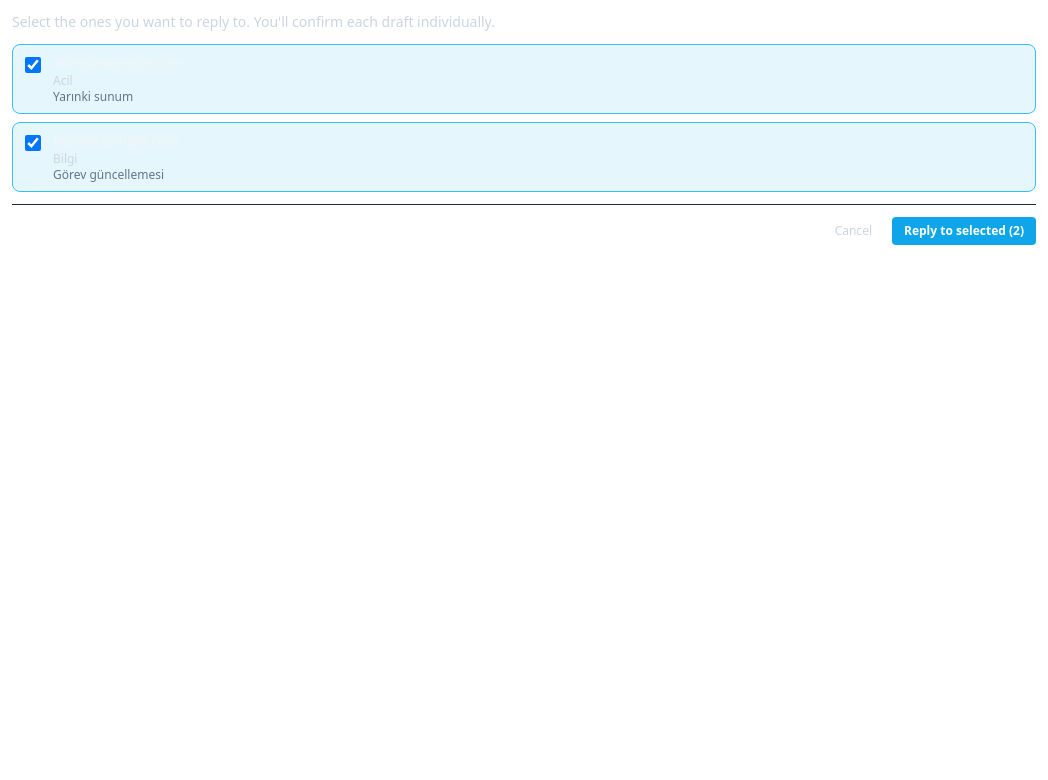
Test case: BatchReplyView › requests drafts for selected ids and shows review step
This screenshot has width=1048, height=780.
What coordinates should you click on to do the following:
click the button with test id "reply-continue"
I would click on:
 (964, 231)
Its box is [892,217,1036,245].
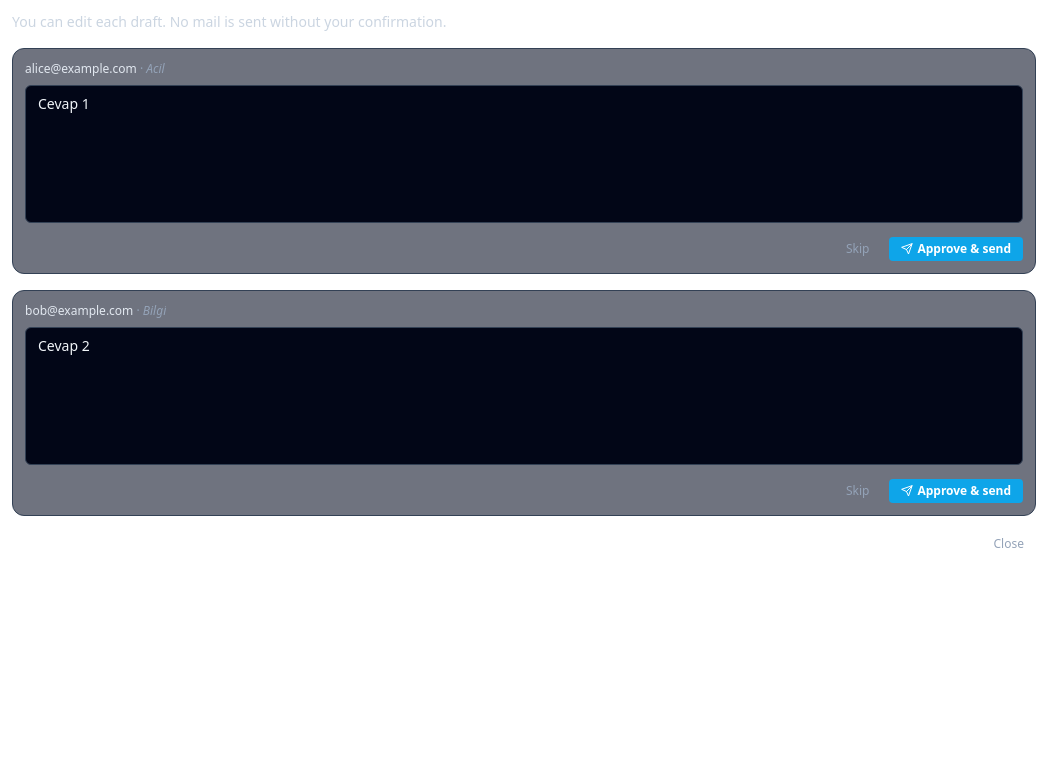
Expected: the element with test id "reply-draft-m1" is shown, [12,48,1036,274]
Expected: the element with test id "reply-draft-m2" is shown, [12,290,1036,516]
